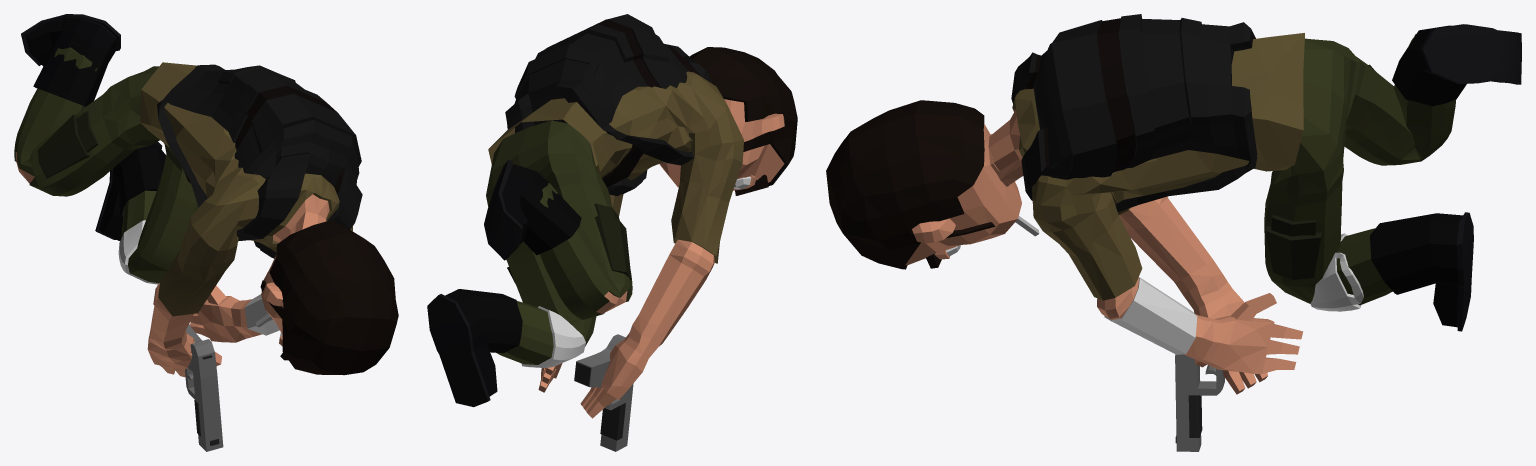
The model's file is frame_0070.obj.
3 renders of one model, left to right at view 1: azimuth 30°, elevation 25°; view 2: azimuth 150°, elevation 25°; view 3: azimuth 270°, elevation 25°, orthographic. The views are drawn at different scales.
Parts seen in each view (by area): view 1: Body, Gun; view 2: Body, Gun; view 3: Body, Gun.
Boxes of the visible parts, box(x1,y1,x2,y2) form: Body: box(14, 14, 398, 377); Gun: box(185, 325, 223, 451); Body: box(427, 14, 797, 418); Gun: box(574, 334, 633, 451); Body: box(826, 14, 1521, 394); Gun: box(1175, 354, 1224, 451).
Size of the model in its own units: 1.37 by 2.41 by 3.4.
